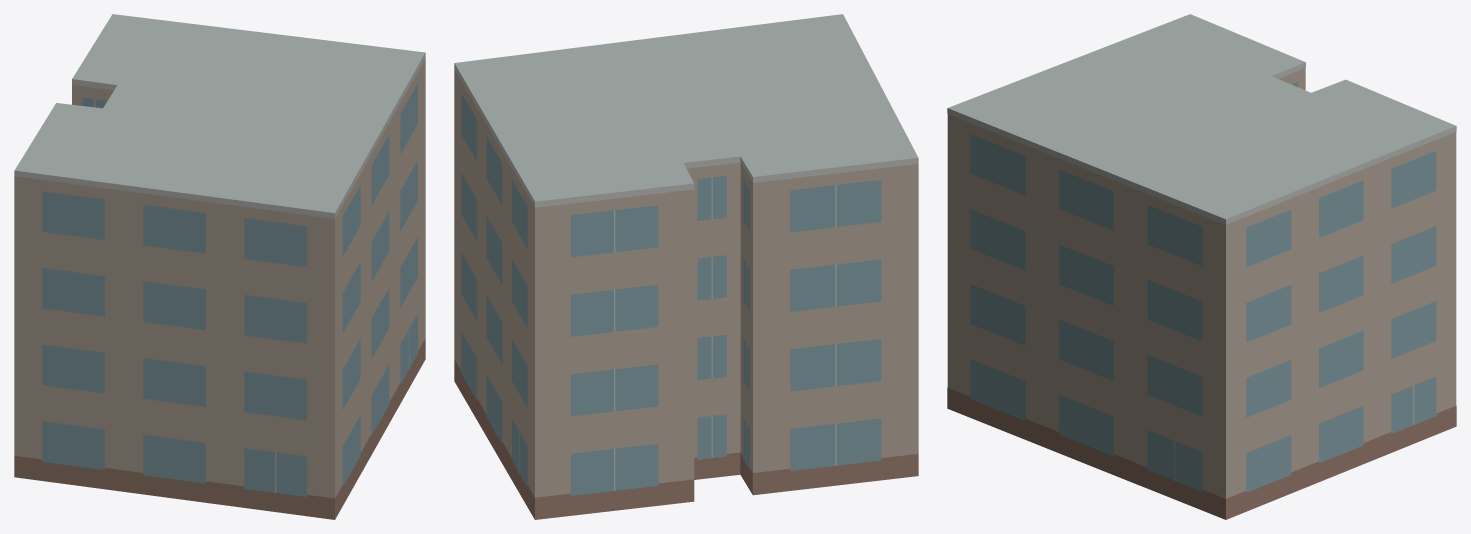
File: survey-upis-32965506.glb
3 views of the same model, side by side, from view 1: azimuth 30°, elevation 25°; view 2: azimuth 150°, elevation 25°; view 3: azimuth 270°, elevation 25° (orthographic). The views are drawn at different scales.
Parts seen in each view (by area): view 1: survey-upis-32965506.tmp; view 2: survey-upis-32965506.tmp; view 3: survey-upis-32965506.tmp.
Boxes of the visible parts, x1,y1,x2,y2 form: survey-upis-32965506.tmp: (14, 14, 425, 519); survey-upis-32965506.tmp: (454, 14, 918, 519); survey-upis-32965506.tmp: (947, 14, 1456, 519).
Size of the model in its own units: 18.9 by 12.9 by 19.8.
